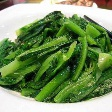youmaicai: (1, 11, 112, 104)
